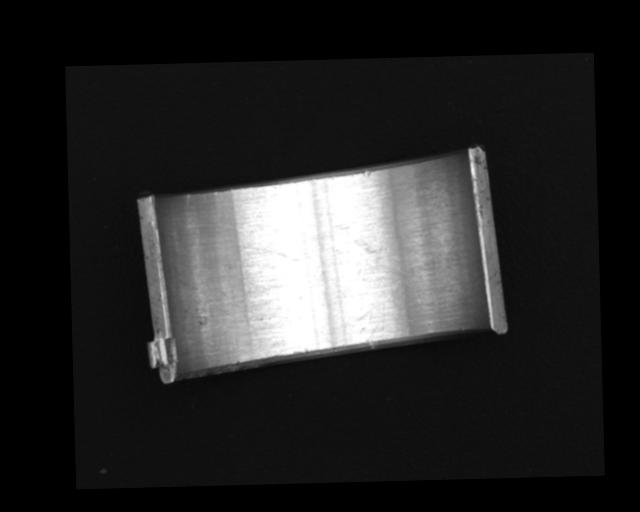blot: (352, 236, 402, 278)
bruise: (363, 170, 372, 177)
nick: (185, 192, 191, 206)
